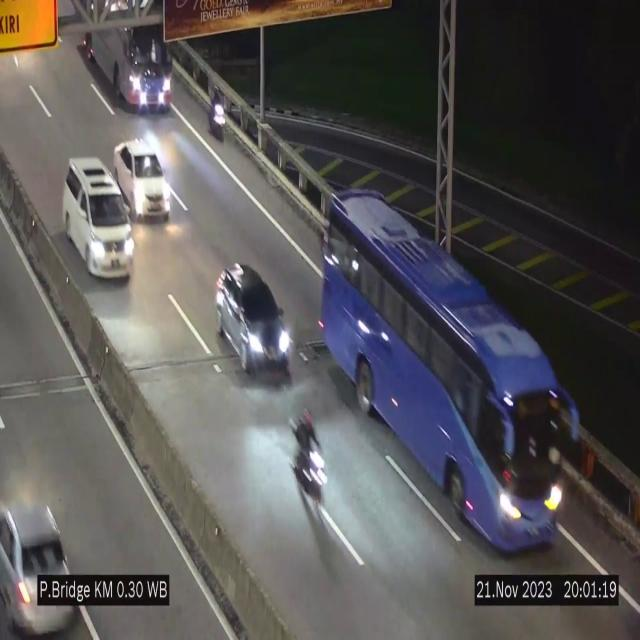Bus: (320, 184, 582, 562)
Car: (215, 263, 293, 373), (63, 158, 134, 278), (114, 140, 170, 218)
Motorcycle: (288, 404, 328, 505), (208, 89, 226, 139)
